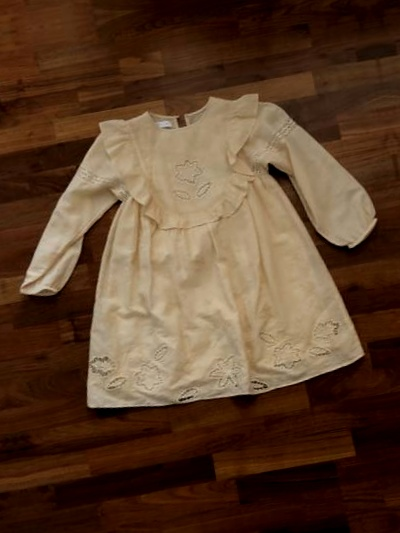Dress: (0, 55, 400, 460), (388, 0, 400, 393)
